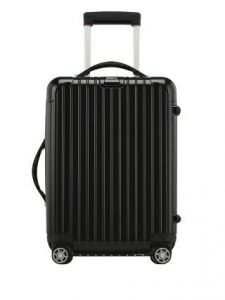luggage: (33, 9, 187, 264)
